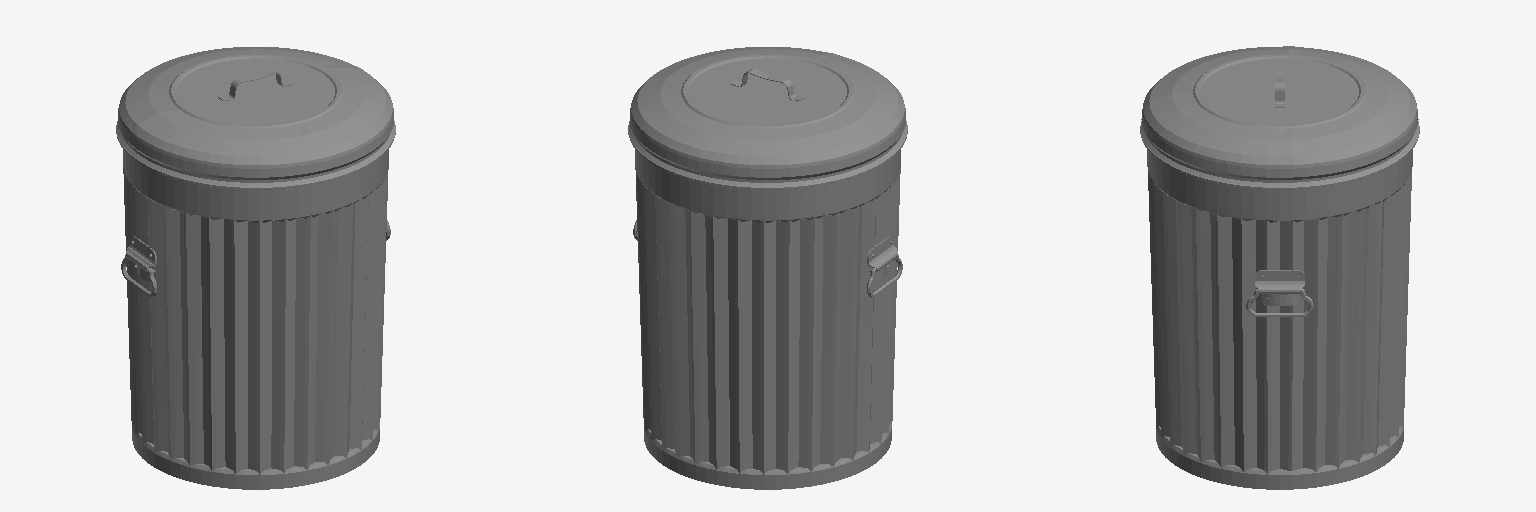
Rendered from trashcan_lod1.obj.
3 renders of one model, left to right at view 1: azimuth 30°, elevation 25°; view 2: azimuth 150°, elevation 25°; view 3: azimuth 270°, elevation 25°, orthographic.
Visible parts, largest first — view 1: trashcan_lod1; view 2: trashcan_lod1; view 3: trashcan_lod1.
Boxes of the visible parts, x1=… form: trashcan_lod1: x1=116, y1=47, x2=395, y2=489; trashcan_lod1: x1=628, y1=47, x2=907, y2=489; trashcan_lod1: x1=1140, y1=46, x2=1419, y2=489.
Bounding box in the file's own units: 45.96 × 65.79 × 45.96.